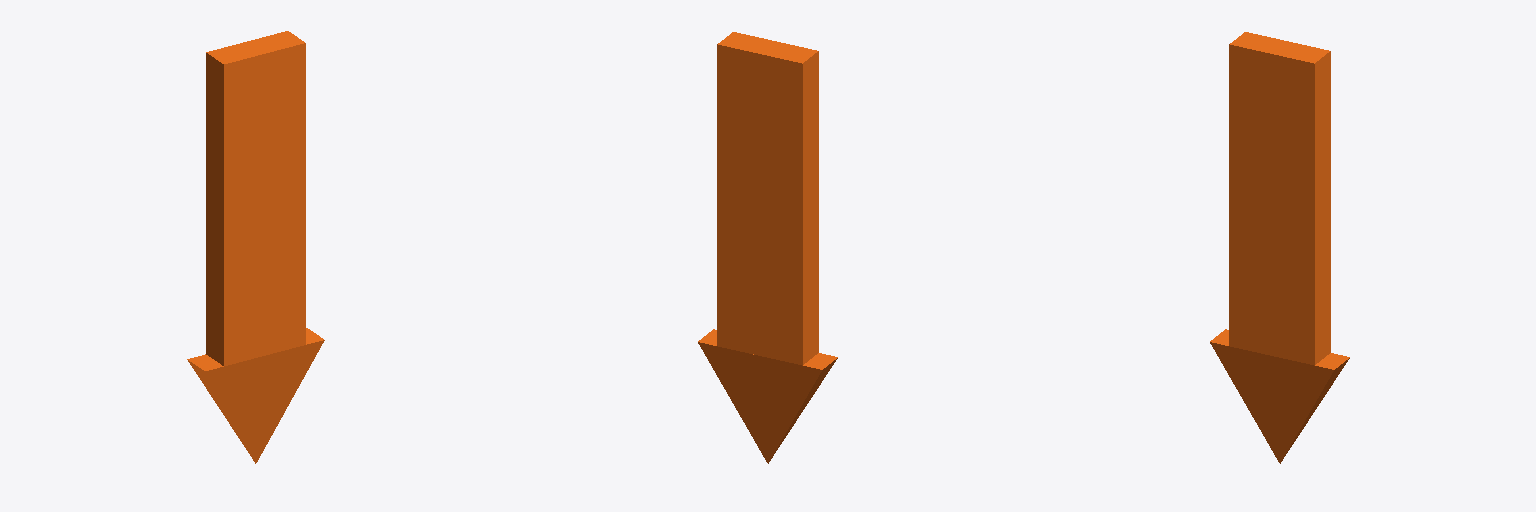
File: Puntero.obj
3 views of the same model, side by side, from view 1: azimuth 30°, elevation 25°; view 2: azimuth 150°, elevation 25°; view 3: azimuth 330°, elevation 25° (orthographic).
Parts seen in each view (by area): view 1: Object.2, Object.1; view 2: Object.2, Object.1; view 3: Object.2, Object.1.
Boxes of the visible parts, x1=… form: Object.2: x1=206, y1=31, x2=305, y2=365; Object.1: x1=187, y1=328, x2=324, y2=463; Object.2: x1=717, y1=32, x2=818, y2=365; Object.1: x1=698, y1=329, x2=837, y2=463; Object.2: x1=1229, y1=32, x2=1330, y2=365; Object.1: x1=1210, y1=329, x2=1349, y2=463.
Bounding box in the file's own units: 2.48 × 8 × 0.6786.